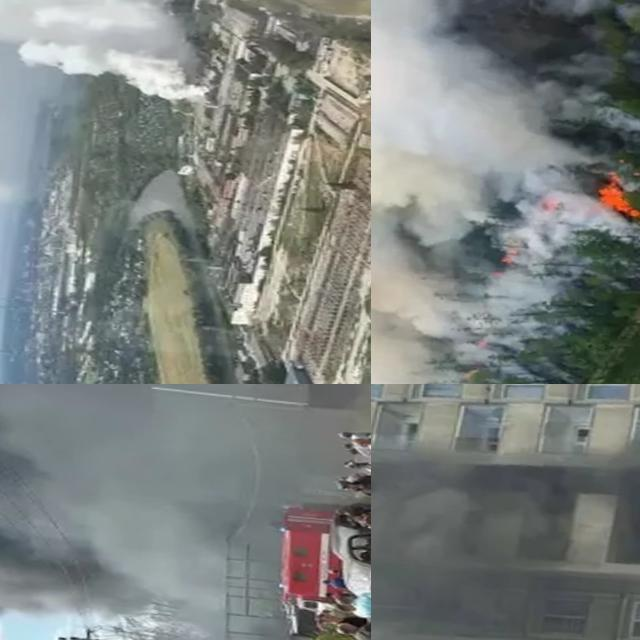smoke: (371, 0, 612, 384), (0, 384, 347, 640), (371, 437, 569, 640), (0, 0, 216, 101)
